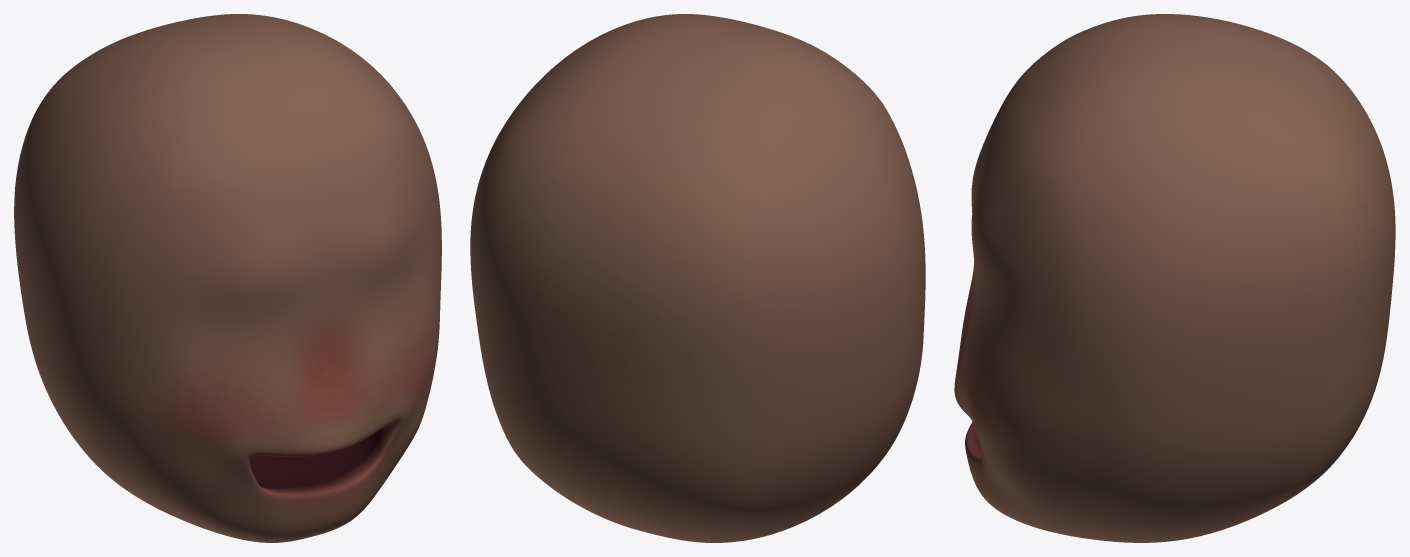
The model's file is head1.glb.
3 renders of one model, left to right at view 1: azimuth 30°, elevation 25°; view 2: azimuth 150°, elevation 25°; view 3: azimuth 270°, elevation 25°, orthographic. The views are drawn at different scales.
Parts seen in each view (by area): view 1: head.001; view 2: head.001; view 3: head.001.
Part boxes in pixels (box(x1,y1,x2,y2)): head.001: box(14, 14, 441, 542); head.001: box(470, 14, 925, 542); head.001: box(954, 14, 1395, 542).
Size of the model in its own units: 1.35 by 1.62 by 1.34.
Materials: 1 (1 with a texture image).
